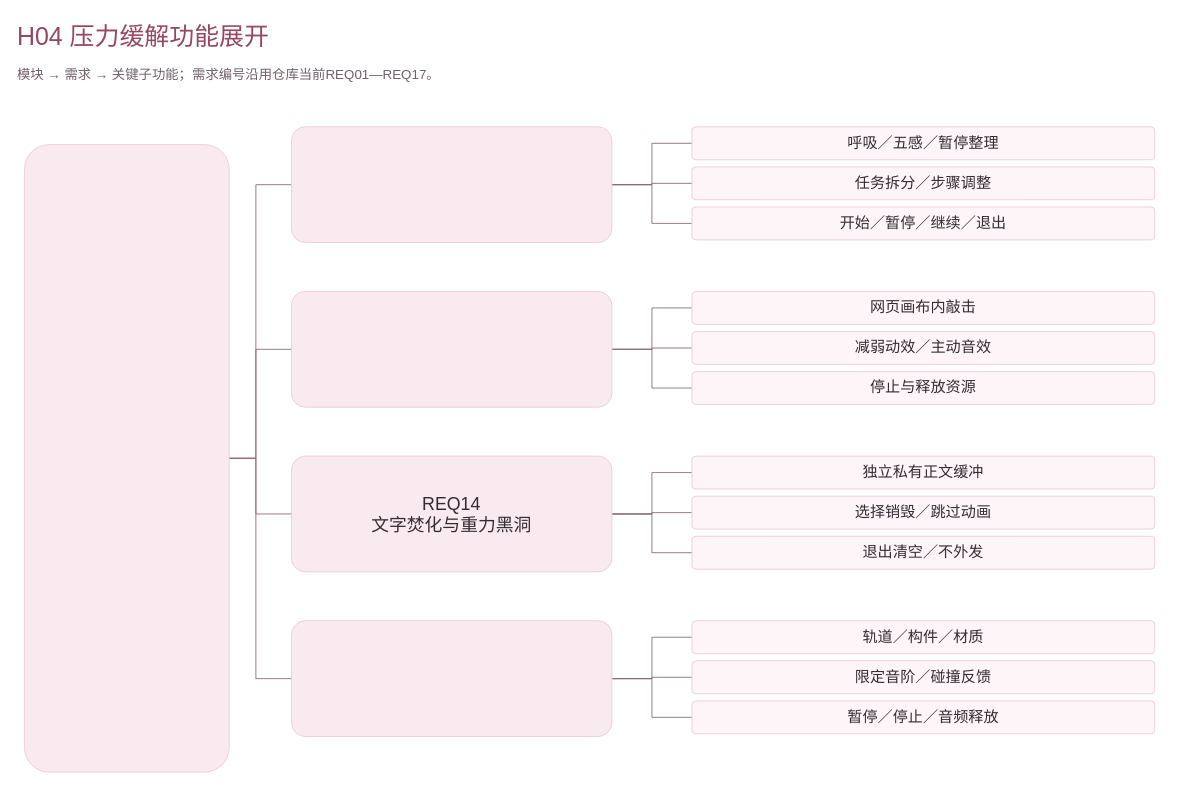
Some shapes in this 1187 by 788 pixel diagram are drawn without their labels. Each missing label, with the centre of its shape:
"REQ02 压力缓解小训练" belongs at (x=451, y=184).
"REQ13 屏幕无损发泄（敲击回弹）" belongs at (x=451, y=349).
"REQ15 禅意编曲弹珠机" belongs at (x=451, y=678).
"压力缓解" belongs at (x=126, y=458).
